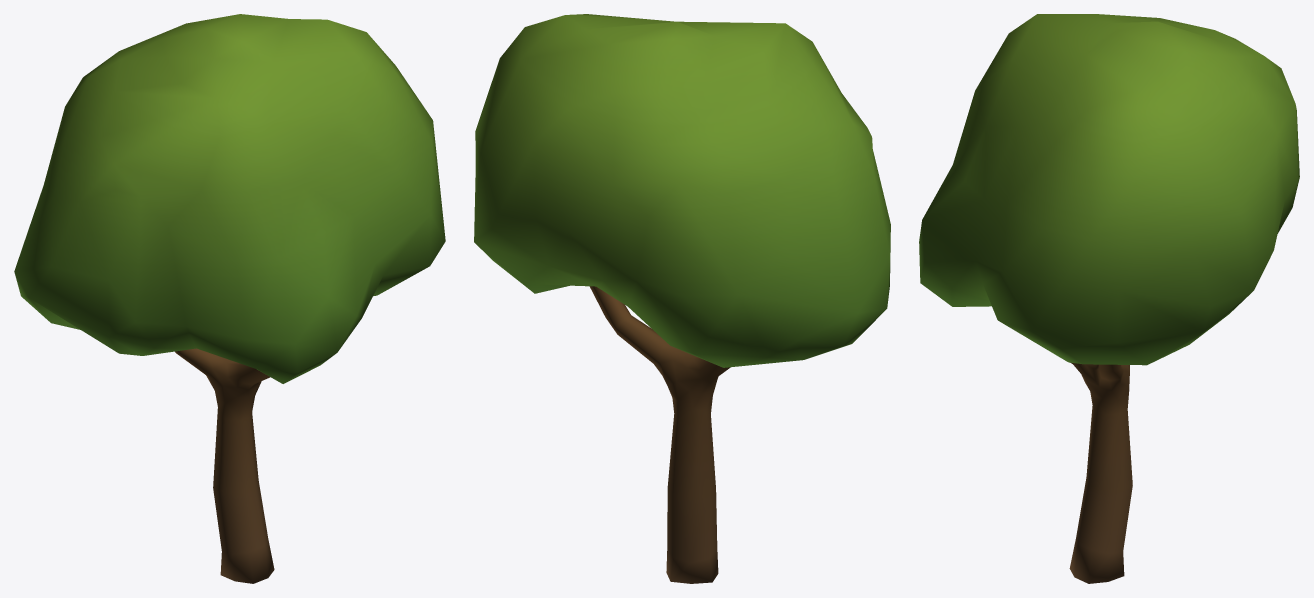
The model's file is FBX Item -Tree01.fbx.
3 renders of one model, left to right at view 1: azimuth 30°, elevation 25°; view 2: azimuth 150°, elevation 25°; view 3: azimuth 270°, elevation 25°, orthographic. The views are drawn at different scales.
Visible parts, largest first — view 1: Tree_07.003; view 2: Tree_07.003; view 3: Tree_07.003.
Boxes of the visible parts, x1,y1,x2,y2 form: Tree_07.003: (14,14,445,583); Tree_07.003: (474,14,890,583); Tree_07.003: (919,14,1299,583).
Bounding box in the file's own units: 2527 × 3309 × 2095.
